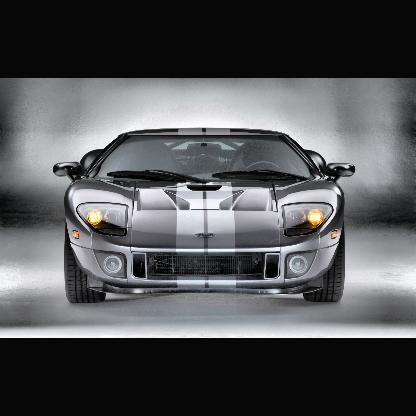Ford GT Coupe 2006: (52, 127, 356, 305)
